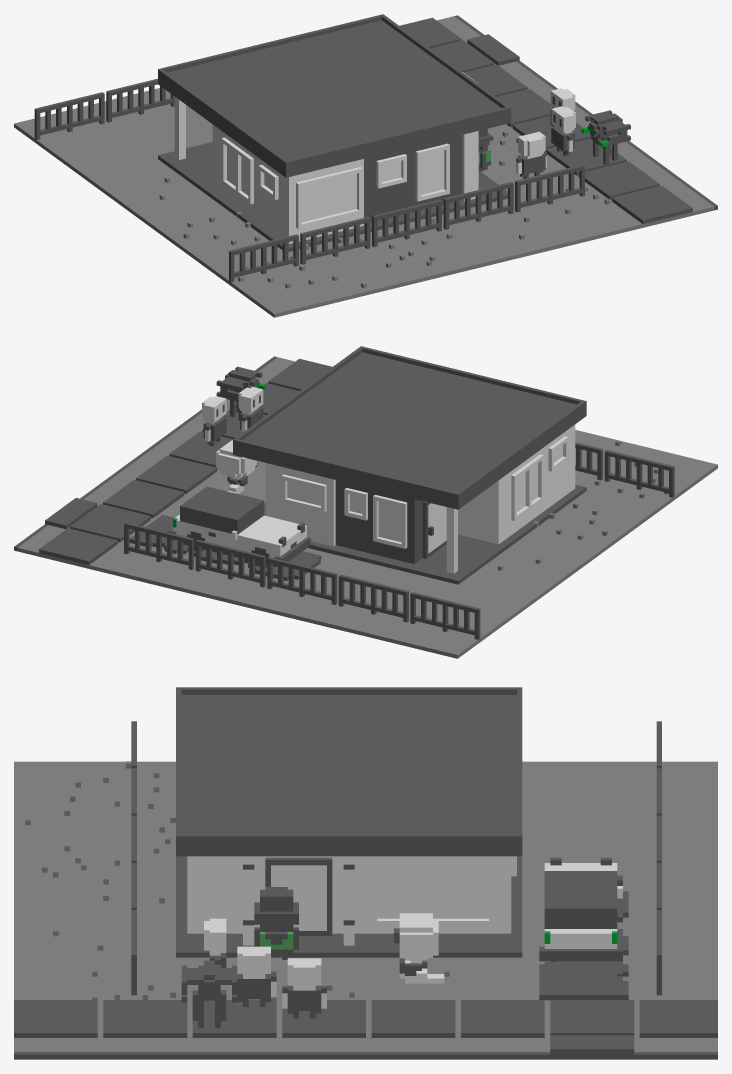
The model's file is scene_house.obj.
The picture shows the model from 3 angles, top to bottom: view 1: azimuth 30°, elevation 25°; view 2: azimuth 150°, elevation 25°; view 3: azimuth 270°, elevation 25°; orthographic projection. The views are drawn at different scales.
Size of the model in its own units: 124 by 25 by 126.
